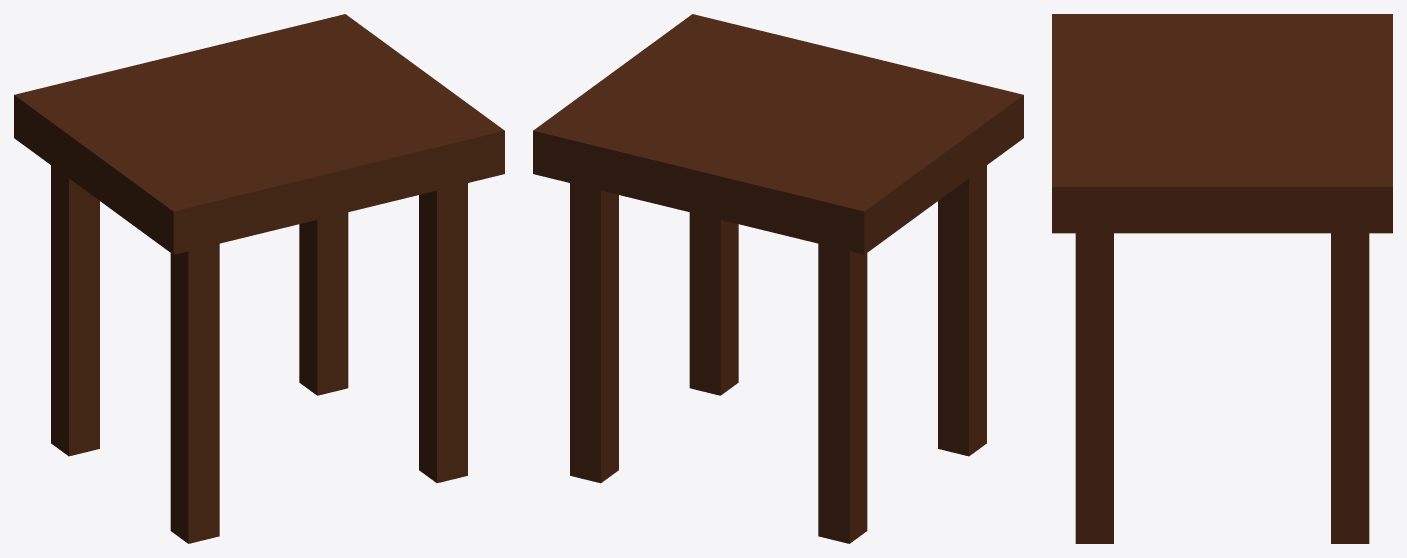
The model's file is stool_spike.glb.
3 views of the same model, side by side, from view 1: azimuth 30°, elevation 25°; view 2: azimuth 150°, elevation 25°; view 3: azimuth 270°, elevation 25° (orthographic). The views are drawn at different scales.
Visible parts, largest first — view 1: Seat, Leg_02, Leg_04, Leg_01, Leg_03; view 2: Seat, Leg_01, Leg_03, Leg_02, Leg_04; view 3: Seat, Leg_03, Leg_04.
Boxes of the visible parts, x1,y1,x2,y2 form: Seat: [14, 14, 504, 254]; Leg_02: [170, 243, 219, 543]; Leg_04: [419, 183, 467, 483]; Leg_01: [51, 165, 99, 456]; Leg_03: [299, 212, 348, 395]; Seat: [533, 14, 1023, 254]; Leg_01: [818, 243, 867, 543]; Leg_03: [570, 183, 618, 483]; Leg_02: [938, 165, 986, 456]; Leg_04: [689, 212, 738, 395]; Seat: [1052, 14, 1392, 233]; Leg_03: [1331, 233, 1369, 543]; Leg_04: [1075, 233, 1113, 543].
Bounding box in the file's own units: 0.48 × 0.48 × 0.4.
